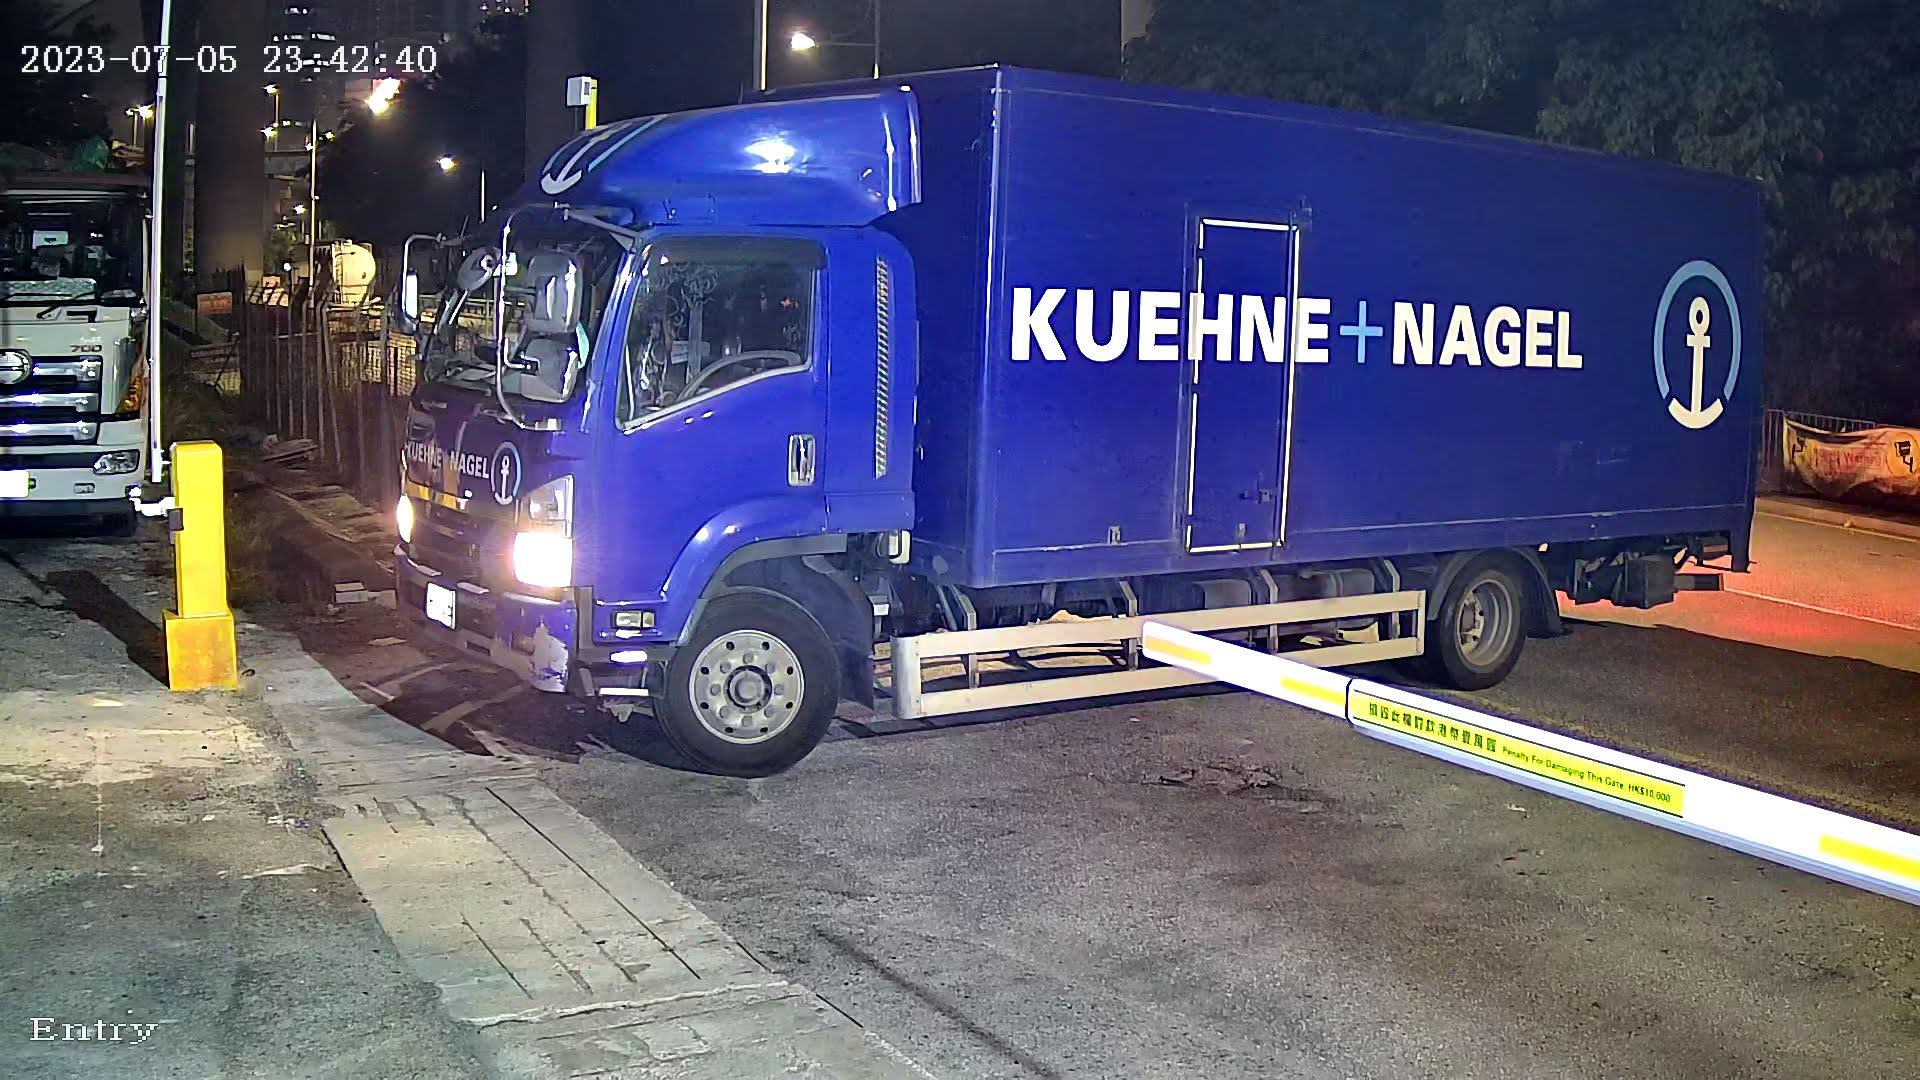truck_large: (290, 1, 1834, 848)
